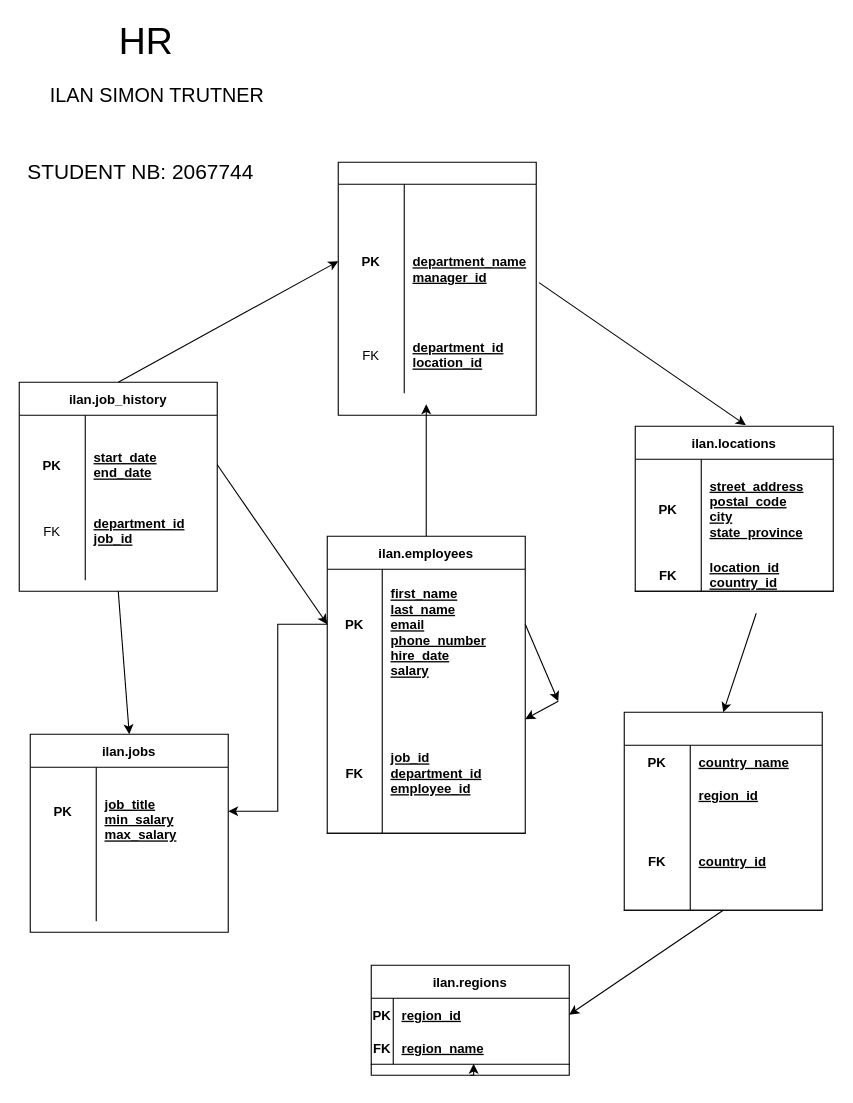
Image size: 853x1103. Some labels were removed from this diagram. Here are the shapes that lost their labels. From the top down, the box of each, then its label:
(337, 161, 536, 415): ilan.departments
(623, 711, 822, 910): ilan.countries
